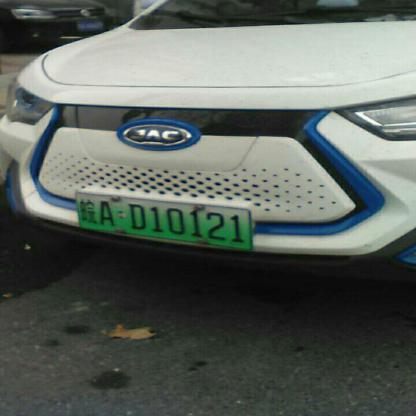lp: (76, 191, 251, 248)
